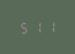five: (18, 20, 29, 34)
one: (43, 19, 54, 33), (31, 20, 42, 33)
